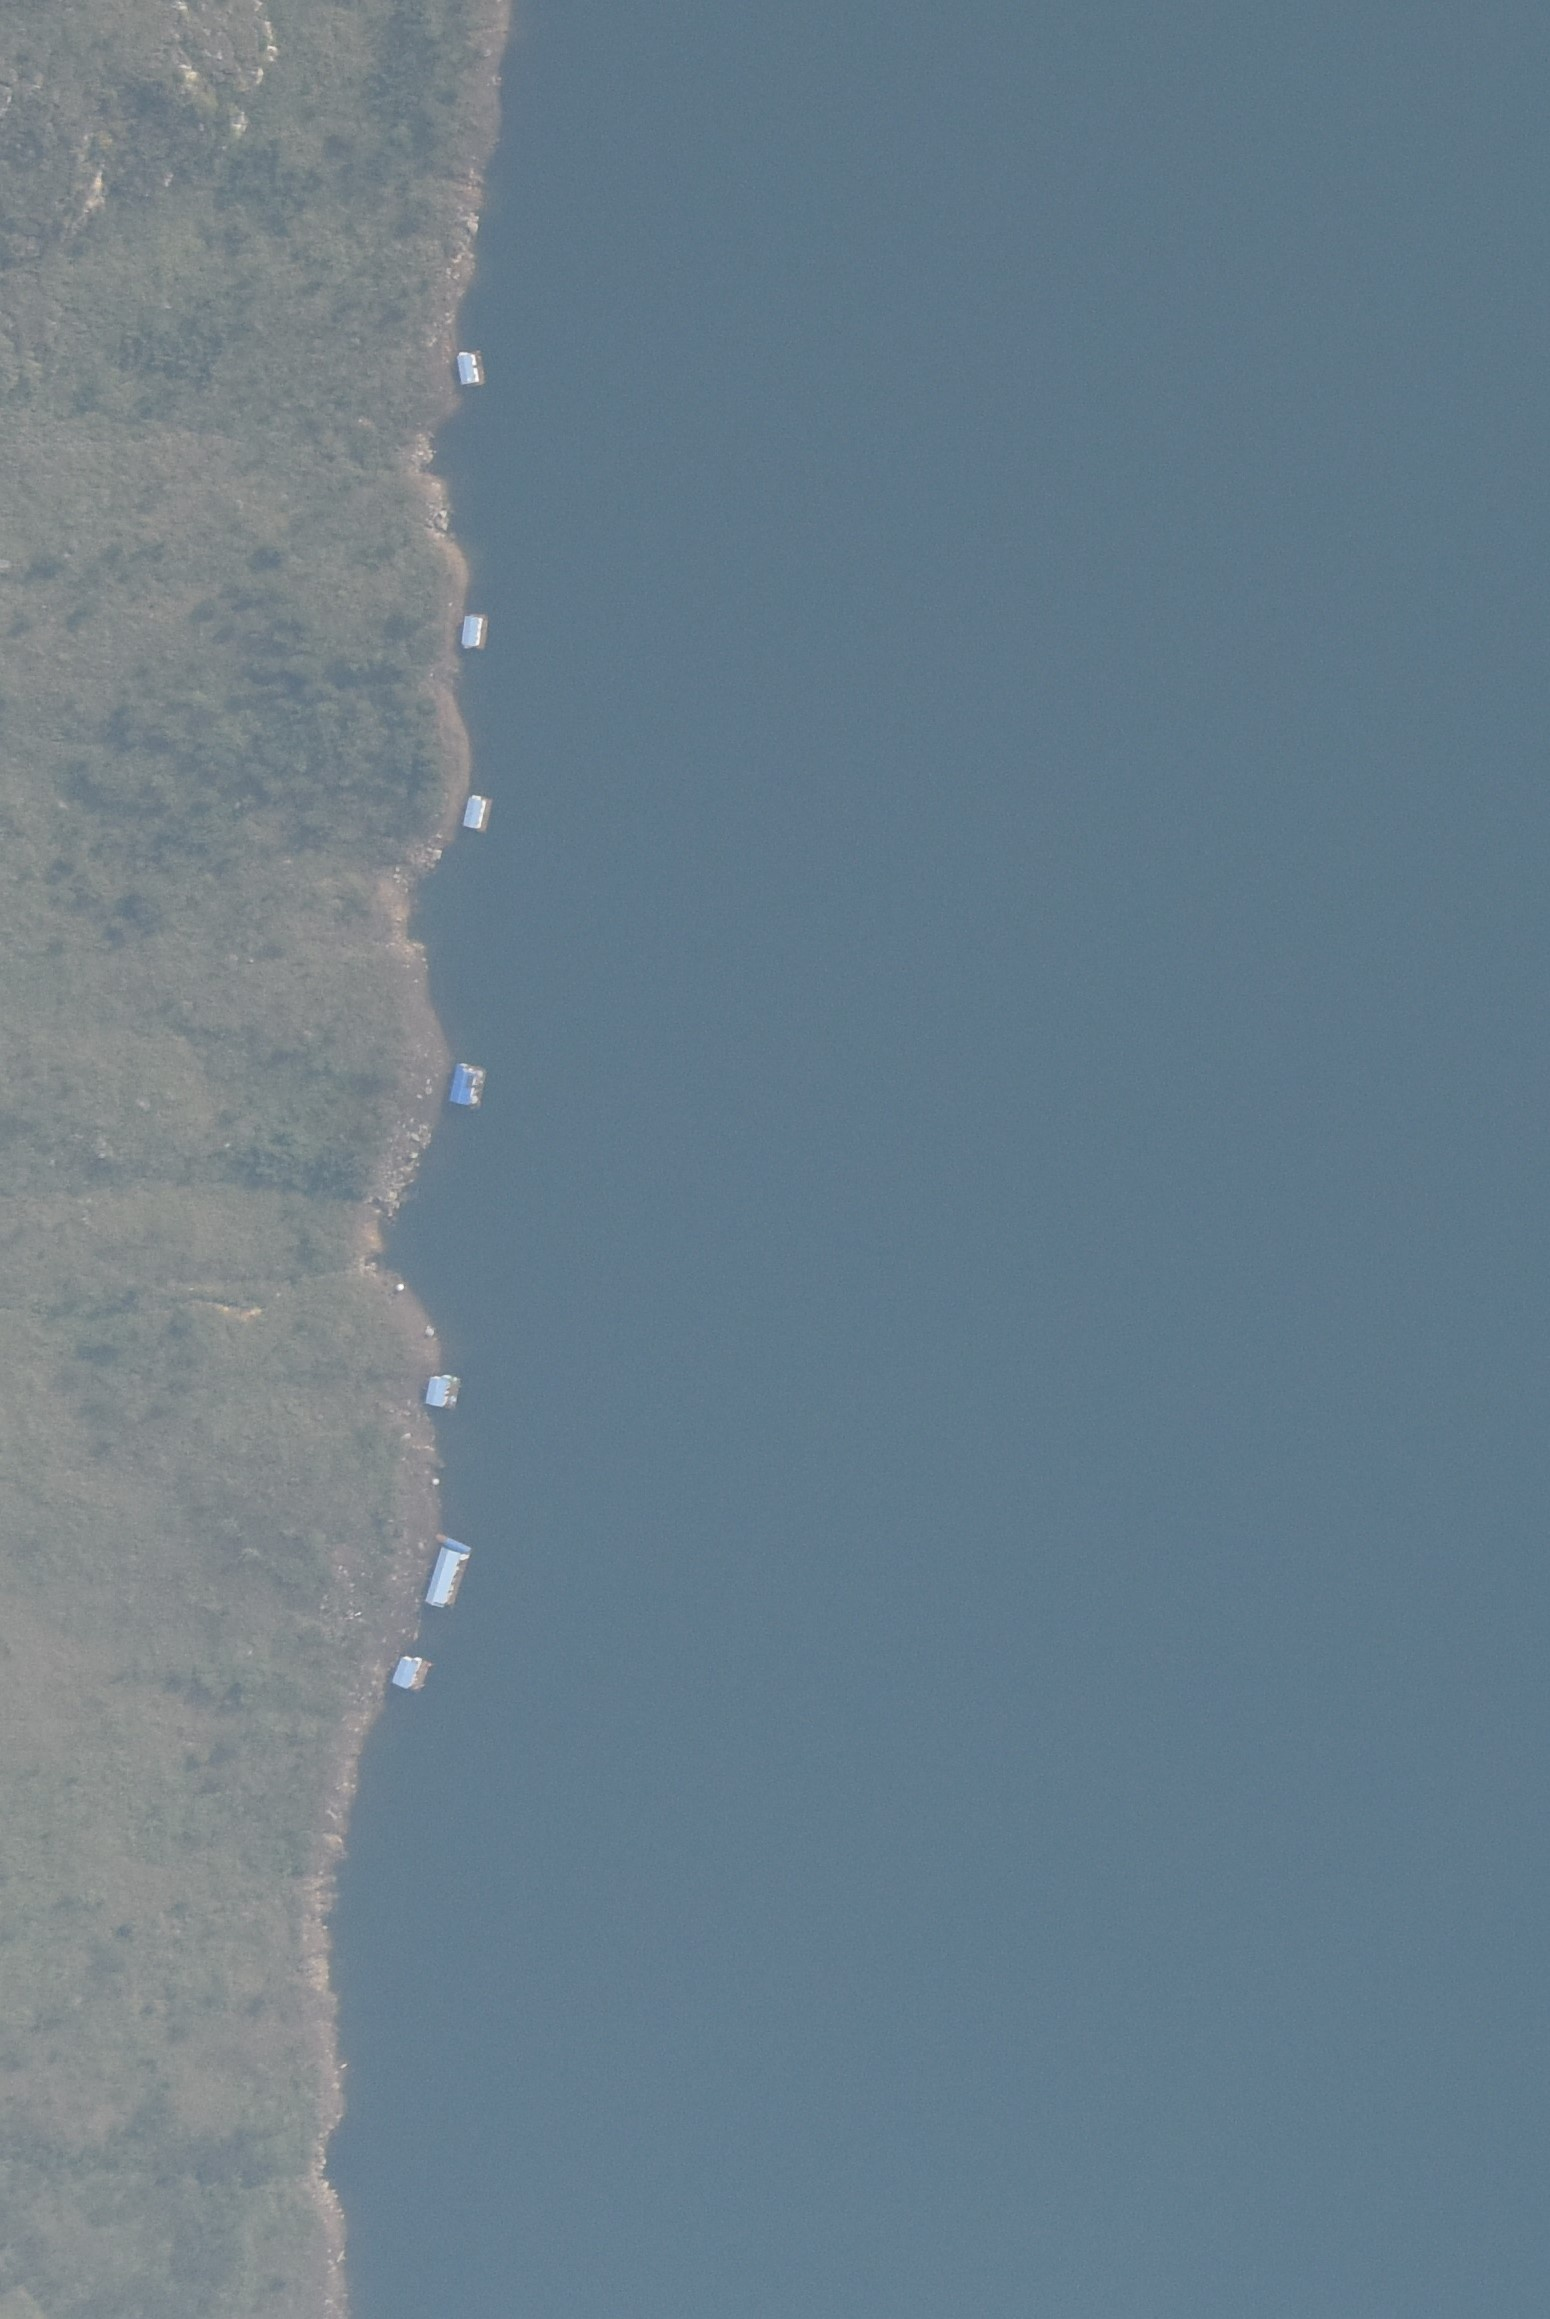prefabricated-house: (420, 1533, 470, 1623), (443, 1053, 490, 1113), (387, 1646, 434, 1704), (451, 336, 489, 397), (421, 1363, 460, 1414), (452, 607, 494, 654), (459, 789, 484, 832)
